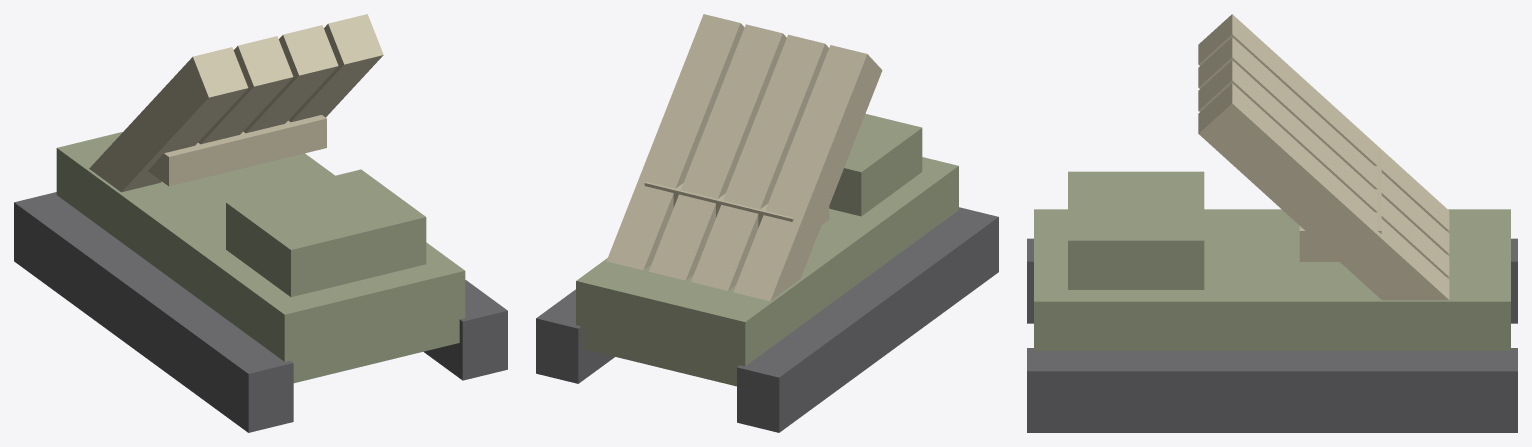
Rendered from sam.glb.
3 renders of one model, left to right at view 1: azimuth 30°, elevation 25°; view 2: azimuth 150°, elevation 25°; view 3: azimuth 270°, elevation 25°, orthographic. The views are drawn at different scales.
Visible parts, largest first — view 1: sam; view 2: sam; view 3: sam.
Boxes of the visible parts, <box> form: sam: <box>14,14,507,432</box>; sam: <box>536,14,998,432</box>; sam: <box>1027,14,1517,432</box>.
Bounding box in the file's own units: 4.6 × 4.99 × 7.2.
